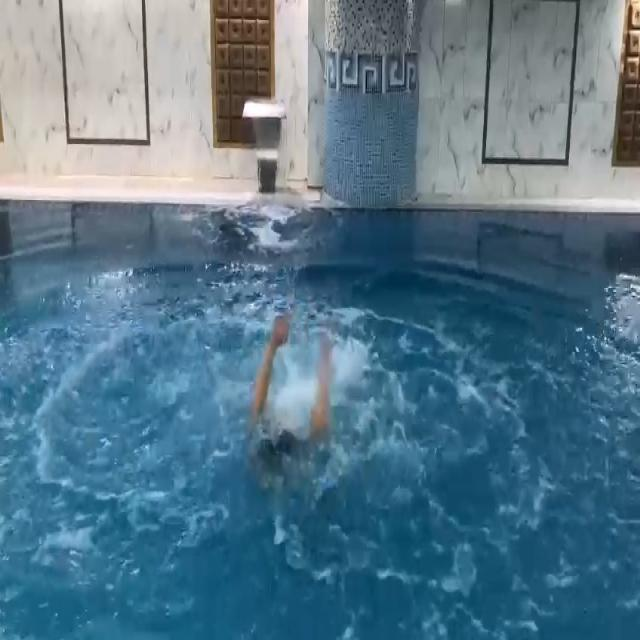Drowning: (247, 318, 335, 462)
